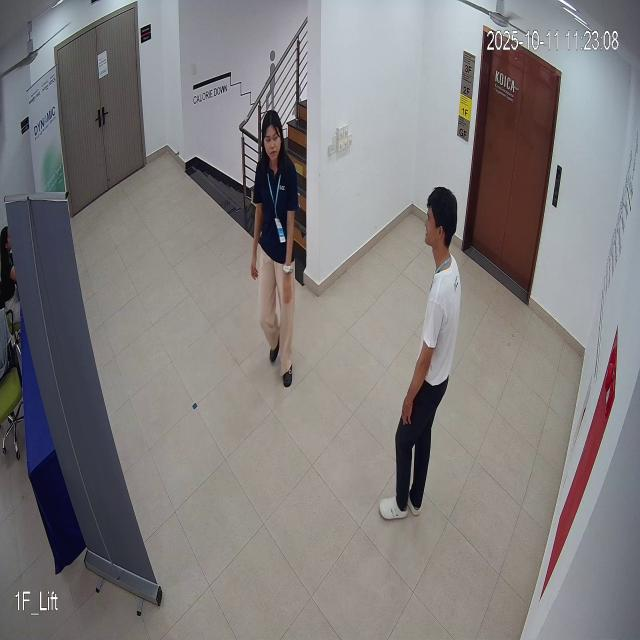face: (420, 183, 461, 258), (258, 106, 284, 167)
